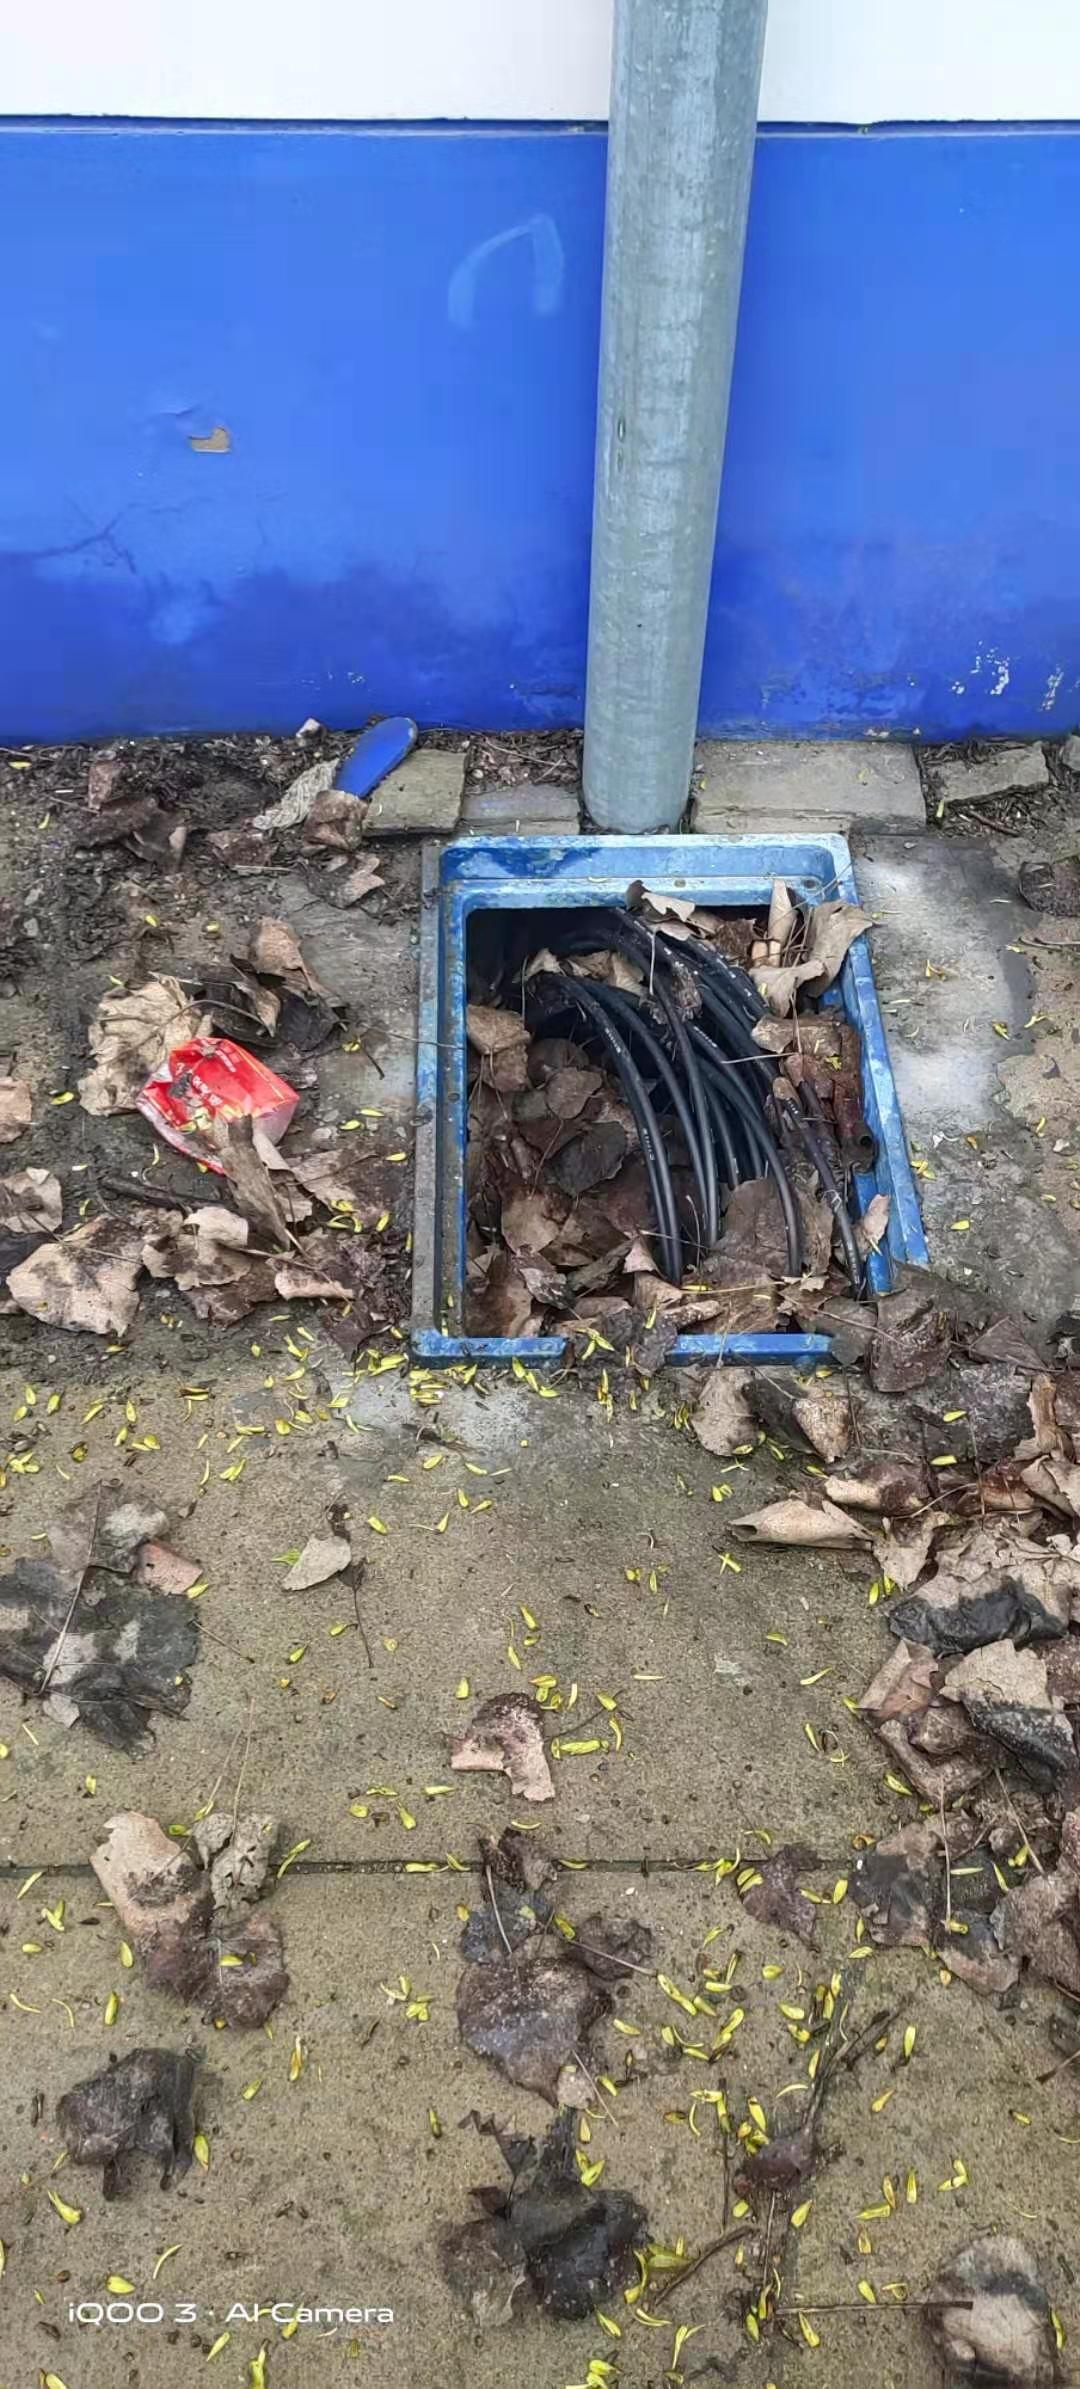well: (407, 812, 920, 1373)
